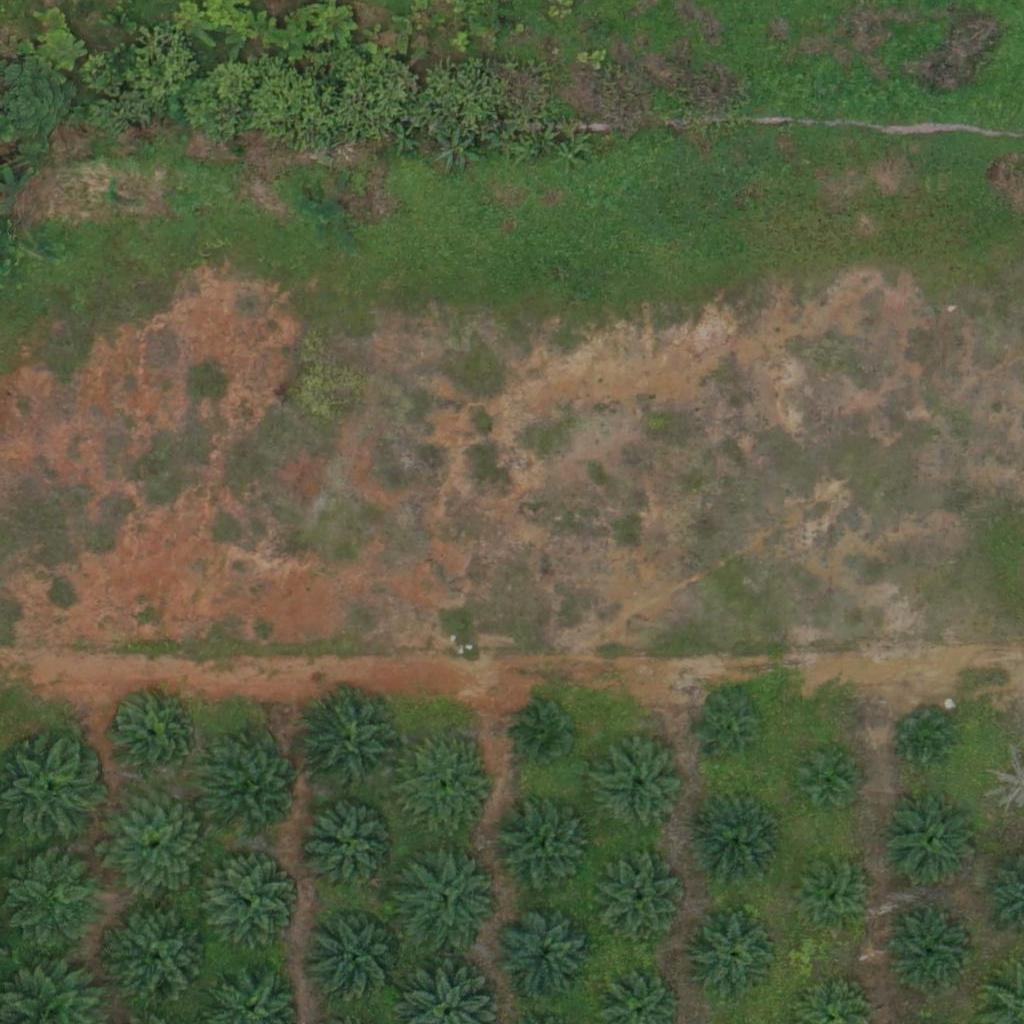Kelapa_Sawit: (100, 789, 213, 903), (104, 901, 217, 1015), (295, 686, 407, 799), (203, 741, 303, 842), (304, 800, 404, 901), (306, 906, 406, 1007), (397, 738, 497, 839), (399, 844, 499, 945), (493, 796, 593, 897), (496, 904, 596, 1005), (590, 734, 690, 835), (12, 851, 112, 951), (203, 850, 303, 950), (882, 792, 982, 892), (598, 858, 686, 947), (692, 801, 780, 889), (689, 914, 777, 1002), (107, 689, 194, 777), (887, 909, 974, 997), (794, 864, 869, 939), (699, 697, 762, 760), (796, 744, 859, 807), (516, 699, 579, 762), (892, 705, 954, 767)
